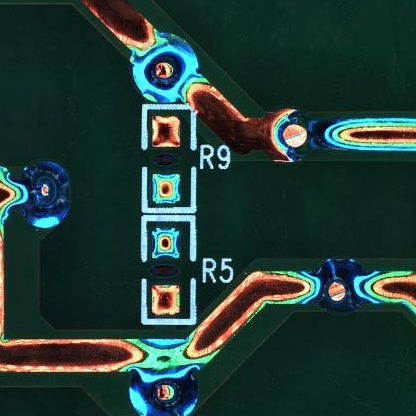spot: (127, 29, 201, 102), (260, 107, 323, 166), (21, 160, 72, 231), (128, 366, 195, 416), (313, 258, 369, 313)
